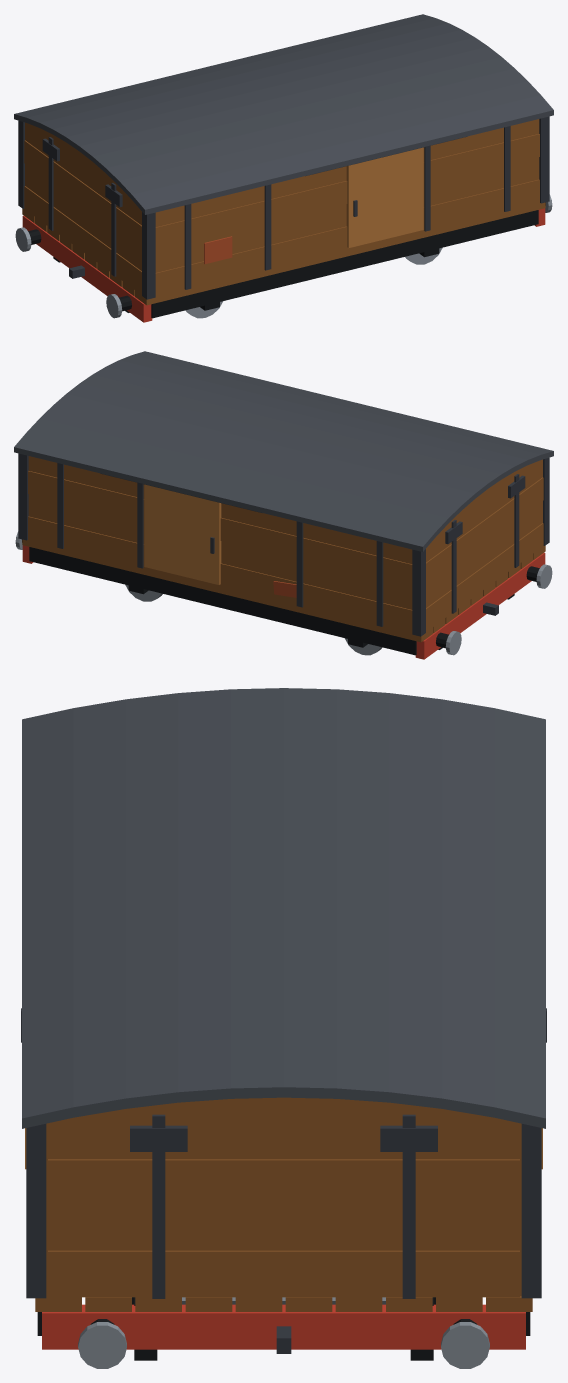
The model's file is WagonBoxVan_atlas.fbx.
The picture shows the model from 3 angles, top to bottom: view 1: azimuth 30°, elevation 25°; view 2: azimuth 150°, elevation 25°; view 3: azimuth 270°, elevation 25°; orthographic projection. The views are drawn at different scales.
Parts seen in each view (by area): view 1: WagonBoxVan_Roof_Roof_01, WagonBoxVan_Side_Timber_01, WagonBoxVan_End_Timber_01, WagonBoxVan_Door_Door_01, WagonBoxVan_Solebar_Chassis_01, WagonBoxVan_Deck_Timber_01, WagonBoxVan_Strap_Iron_01, WagonBoxVan_BufferBeam_Buffer_01, WagonBoxVan_CornerPost_Iron_01, WagonBoxVan_EndStrap_Iron_01, WagonBoxVan_CornerPost_Iron_02, WagonBoxVan_Patch_Patch_01 (+2 smaller); view 2: WagonBoxVan_Roof_Roof_01, WagonBoxVan_Side_Timber_02, WagonBoxVan_End_Timber_01, WagonBoxVan_Door_Door_02, WagonBoxVan_Solebar_Chassis_02, WagonBoxVan_Deck_Timber_01, WagonBoxVan_Strap_Iron_02, WagonBoxVan_BufferBeam_Buffer_01, WagonBoxVan_CornerPost_Iron_03, WagonBoxVan_EndStrap_Iron_01, WagonBoxVan_CornerPost_Iron_04, WagonBoxVan_CornerPost_Iron_01 (+1 smaller); view 3: WagonBoxVan_Roof_Roof_01, WagonBoxVan_End_Timber_02, WagonBoxVan_BufferBeam_Buffer_02, WagonBoxVan_Deck_Timber_01, WagonBoxVan_EndStrap_Iron_02, WagonBoxVan_EndGable_Timber_02, WagonBoxVan_CornerPost_Iron_02, WagonBoxVan_CornerPost_Iron_04, WagonBoxVan_Vent_Iron_02, WagonBoxVan_BufferHead_Steel_03, WagonBoxVan_BufferHead_Steel_04.
Boxes of the visible parts, x1=… form: WagonBoxVan_Roof_Roof_01: x1=14, y1=14, x2=553, y2=214; WagonBoxVan_Side_Timber_01: x1=155, y1=119, x2=539, y2=296; WagonBoxVan_End_Timber_01: x1=24, y1=122, x2=141, y2=294; WagonBoxVan_Door_Door_01: x1=346, y1=147, x2=423, y2=247; WagonBoxVan_Solebar_Chassis_01: x1=151, y1=210, x2=538, y2=318; WagonBoxVan_Deck_Timber_01: x1=22, y1=202, x2=545, y2=305; WagonBoxVan_Strap_Iron_01: x1=184, y1=126, x2=510, y2=289; WagonBoxVan_BufferBeam_Buffer_01: x1=22, y1=215, x2=152, y2=322; WagonBoxVan_CornerPost_Iron_01: x1=142, y1=212, x2=155, y2=299; WagonBoxVan_EndStrap_Iron_01: x1=48, y1=137, x2=116, y2=276; WagonBoxVan_CornerPost_Iron_02: x1=539, y1=116, x2=549, y2=203; WagonBoxVan_Patch_Patch_01: x1=204, y1=236, x2=232, y2=264; WagonBoxVan_Roof_Roof_01: x1=14, y1=351, x2=553, y2=551; WagonBoxVan_Side_Timber_02: x1=28, y1=456, x2=412, y2=633; WagonBoxVan_End_Timber_01: x1=426, y1=459, x2=543, y2=631; WagonBoxVan_Door_Door_02: x1=144, y1=484, x2=221, y2=584; WagonBoxVan_Solebar_Chassis_02: x1=29, y1=547, x2=416, y2=655; WagonBoxVan_Deck_Timber_01: x1=22, y1=539, x2=545, y2=642; WagonBoxVan_Strap_Iron_02: x1=57, y1=463, x2=383, y2=626; WagonBoxVan_BufferBeam_Buffer_01: x1=415, y1=552, x2=545, y2=659; WagonBoxVan_CornerPost_Iron_03: x1=412, y1=549, x2=425, y2=636; WagonBoxVan_EndStrap_Iron_01: x1=451, y1=474, x2=519, y2=613; WagonBoxVan_CornerPost_Iron_04: x1=18, y1=453, x2=28, y2=540; WagonBoxVan_CornerPost_Iron_01: x1=543, y1=457, x2=549, y2=545; WagonBoxVan_Roof_Roof_01: x1=22, y1=688, x2=545, y2=1128; WagonBoxVan_End_Timber_02: x1=48, y1=1113, x2=519, y2=1297; WagonBoxVan_BufferBeam_Buffer_02: x1=42, y1=1304, x2=525, y2=1349; WagonBoxVan_Deck_Timber_01: x1=35, y1=1296, x2=532, y2=1311; WagonBoxVan_EndStrap_Iron_02: x1=152, y1=1114, x2=415, y2=1298; WagonBoxVan_EndGable_Timber_02: x1=99, y1=1097, x2=468, y2=1113; WagonBoxVan_CornerPost_Iron_02: x1=26, y1=1124, x2=46, y2=1298; WagonBoxVan_CornerPost_Iron_04: x1=521, y1=1124, x2=541, y2=1298; WagonBoxVan_Vent_Iron_02: x1=130, y1=1125, x2=437, y2=1151; WagonBoxVan_BufferHead_Steel_03: x1=78, y1=1322, x2=126, y2=1368; WagonBoxVan_BufferHead_Steel_04: x1=441, y1=1322, x2=489, y2=1368.
Size of what is drawn, in the model's own units: 34.8 by 13.2 by 18.26.
1 material, 1 textured.
